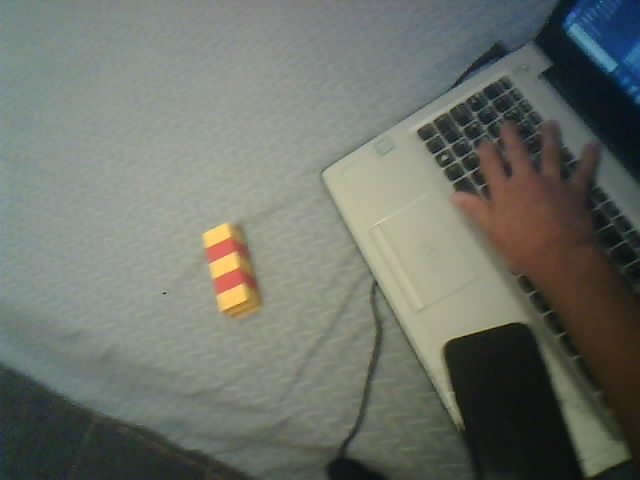lego: (199, 222, 261, 320)
